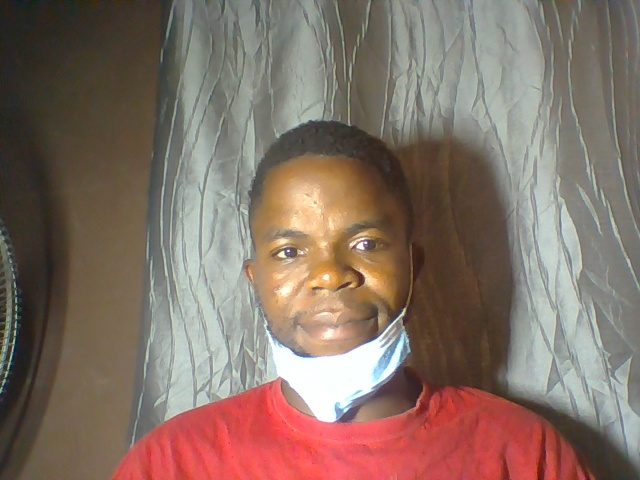MaskOff: (240, 116, 450, 421)
